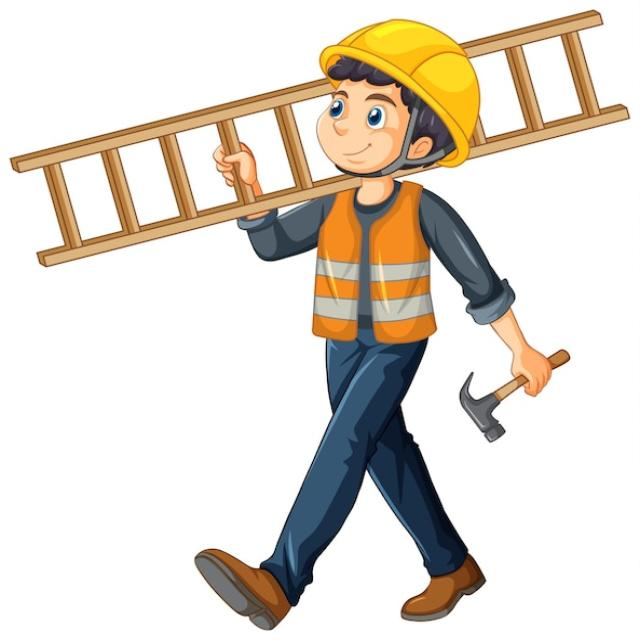safety_helmet: (291, 177, 451, 350)
